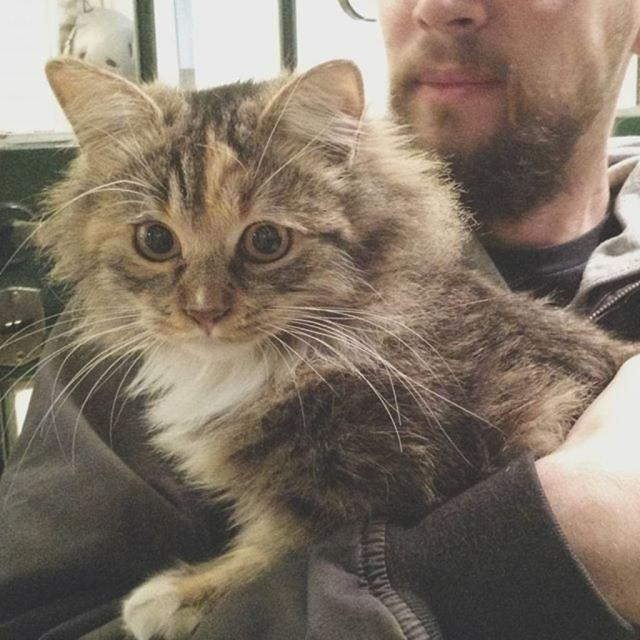Cat: (0, 48, 638, 638)
